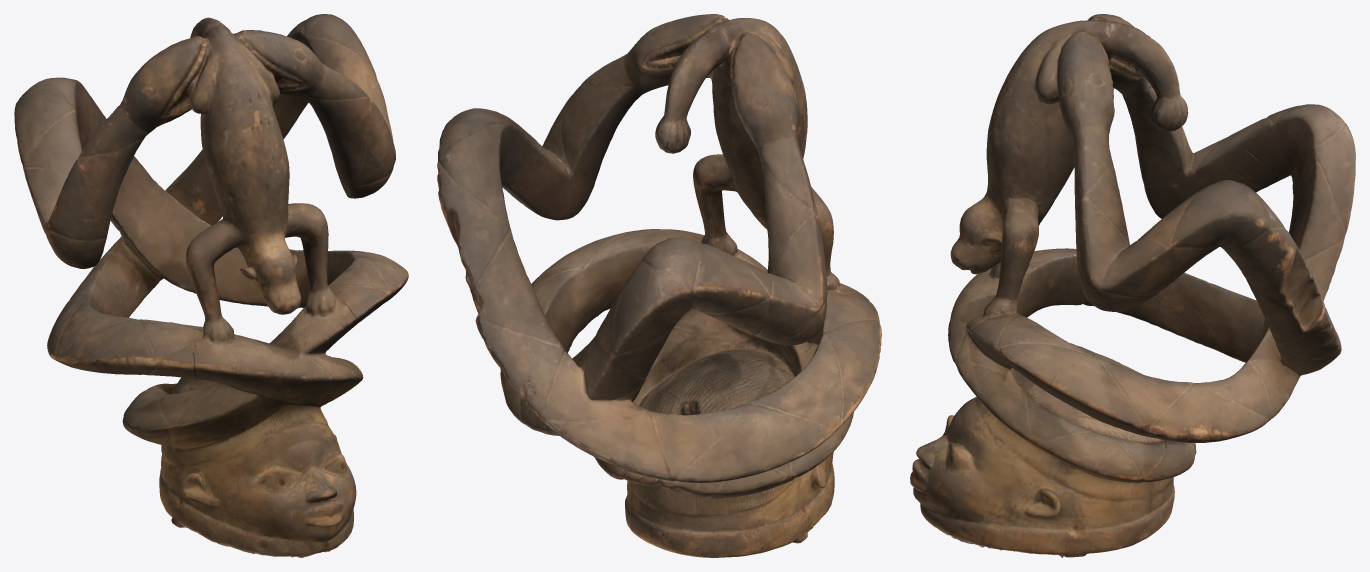
File: preview.glb
3 views of the same model, side by side, from view 1: azimuth 30°, elevation 25°; view 2: azimuth 150°, elevation 25°; view 3: azimuth 270°, elevation 25° (orthographic). The views are drawn at different scales.
Visible parts, largest first — view 1: PG_1990_336_OB_HelmetMask_n3d; view 2: PG_1990_336_OB_HelmetMask_n3d; view 3: PG_1990_336_OB_HelmetMask_n3d.
Boxes of the visible parts, x1,y1,x2,y2 form: PG_1990_336_OB_HelmetMask_n3d: (14,14,408,557); PG_1990_336_OB_HelmetMask_n3d: (437,14,881,557); PG_1990_336_OB_HelmetMask_n3d: (910,14,1355,557).
Bounding box in the file's own units: 0.4056 × 0.5643 × 0.4617.
1 material, 1 textured.
